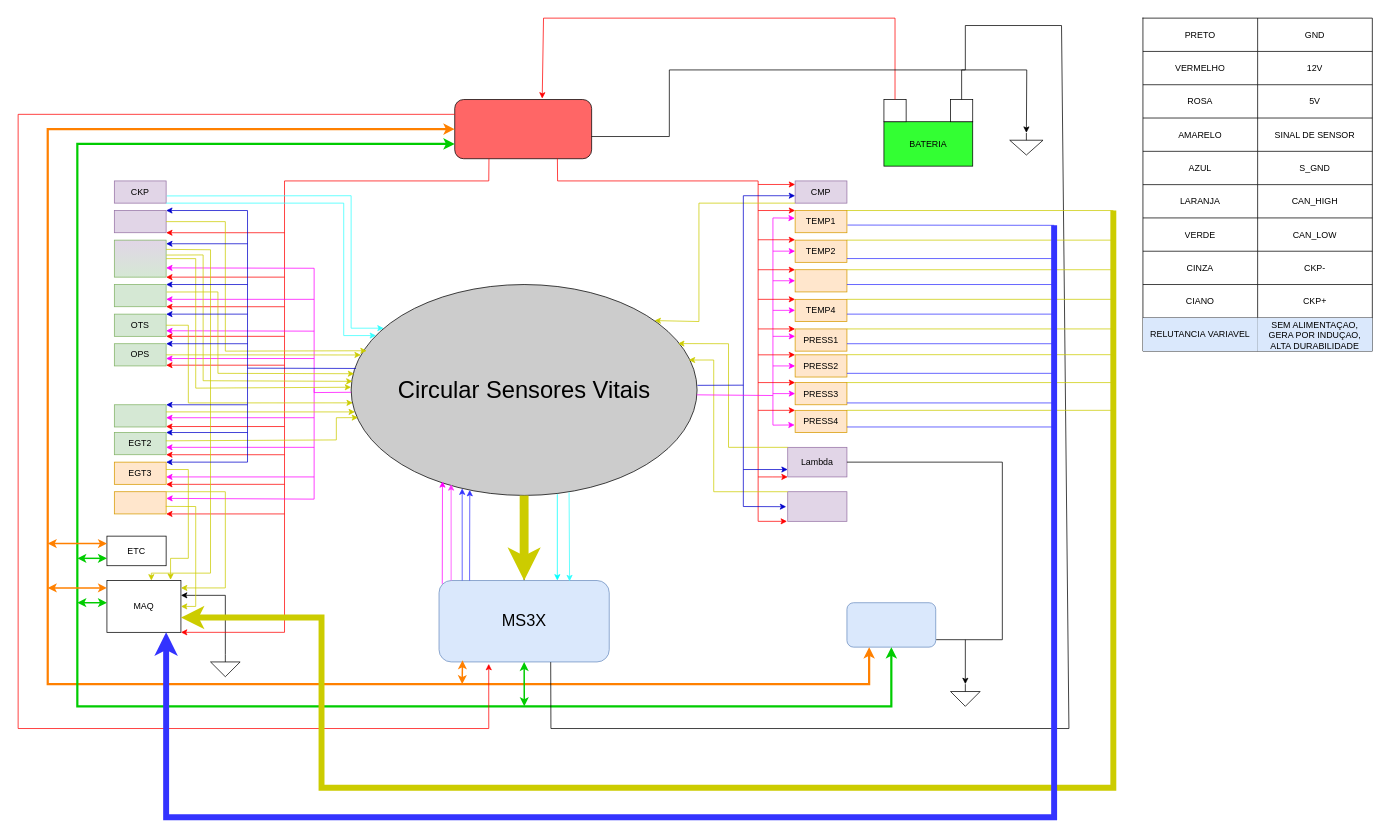
Some shapes in this 1385 by 839 pixel diagram are drawn without their labels. Each missing label, with the centre of its shape:
"AIM EVO 4" goes at point 891,624.
"CLT" goes at point 140,221.
"EGT1" goes at point 140,415.
"EGT4" goes at point 140,502.
"Flex" goes at point 817,506.
"FPS" goes at point 140,295.
"PDM" goes at point 523,129.
"TEMP3" goes at point 820,280.
"TRIPLEX(tps map iat)" goes at point 140,258.
